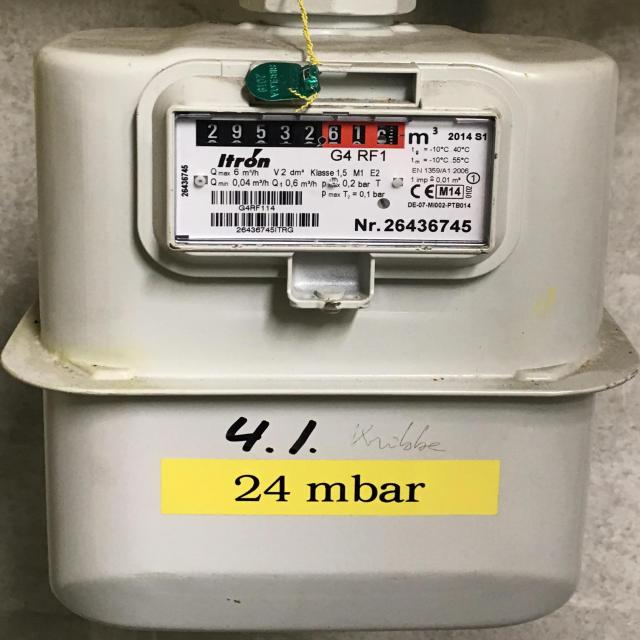gaz_meter: (167, 98, 496, 253)
indication: (196, 115, 406, 147)
